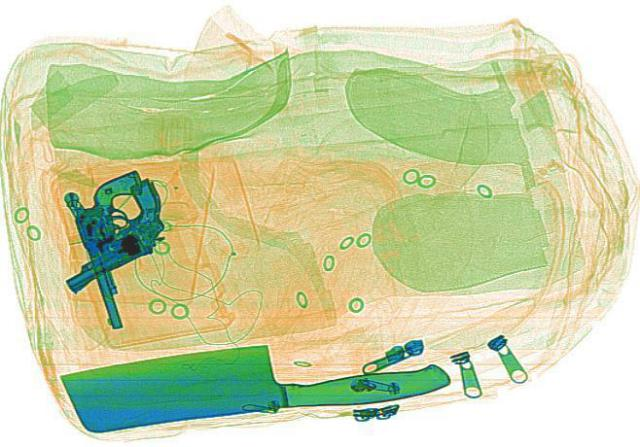Gun: (11, 176, 206, 291), (56, 167, 192, 328)
Knife: (59, 315, 455, 445)
